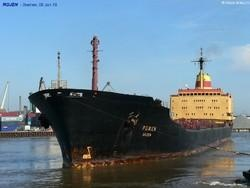Cargoship: (27, 46, 238, 172)
